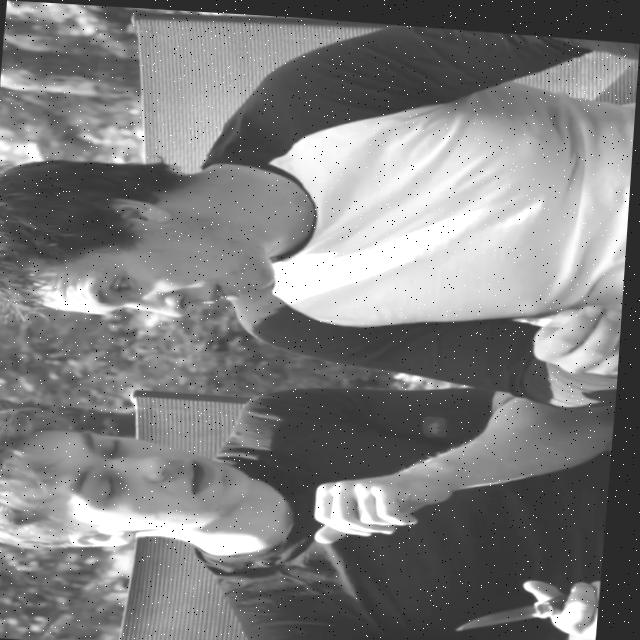knife: (462, 579, 577, 633)
